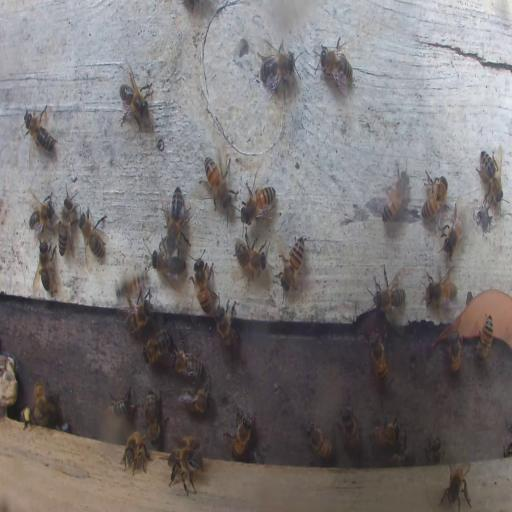bee: (258, 39, 296, 95), (316, 36, 354, 91), (117, 68, 151, 129), (23, 104, 55, 156), (441, 459, 473, 511), (203, 152, 231, 210), (371, 268, 406, 314), (163, 188, 190, 247), (381, 168, 409, 224), (241, 181, 277, 224), (477, 149, 503, 208), (191, 256, 218, 312), (280, 234, 306, 291), (225, 410, 254, 460), (424, 264, 458, 306), (79, 208, 106, 260), (421, 171, 449, 221), (215, 300, 239, 356), (121, 429, 151, 473), (336, 404, 361, 456), (440, 206, 464, 260), (234, 237, 266, 277), (150, 242, 183, 279), (306, 422, 334, 464), (178, 381, 212, 414), (123, 294, 152, 332), (171, 344, 203, 378), (58, 193, 76, 253), (34, 239, 53, 295), (368, 416, 400, 449), (142, 327, 172, 362), (144, 390, 164, 442), (170, 454, 197, 492), (28, 192, 53, 232), (369, 331, 388, 383), (108, 386, 138, 418), (476, 314, 494, 362), (116, 274, 144, 304), (34, 378, 51, 424), (175, 437, 202, 465), (388, 440, 416, 466), (447, 330, 462, 374), (426, 434, 442, 462), (249, 445, 265, 463), (24, 405, 36, 426)
